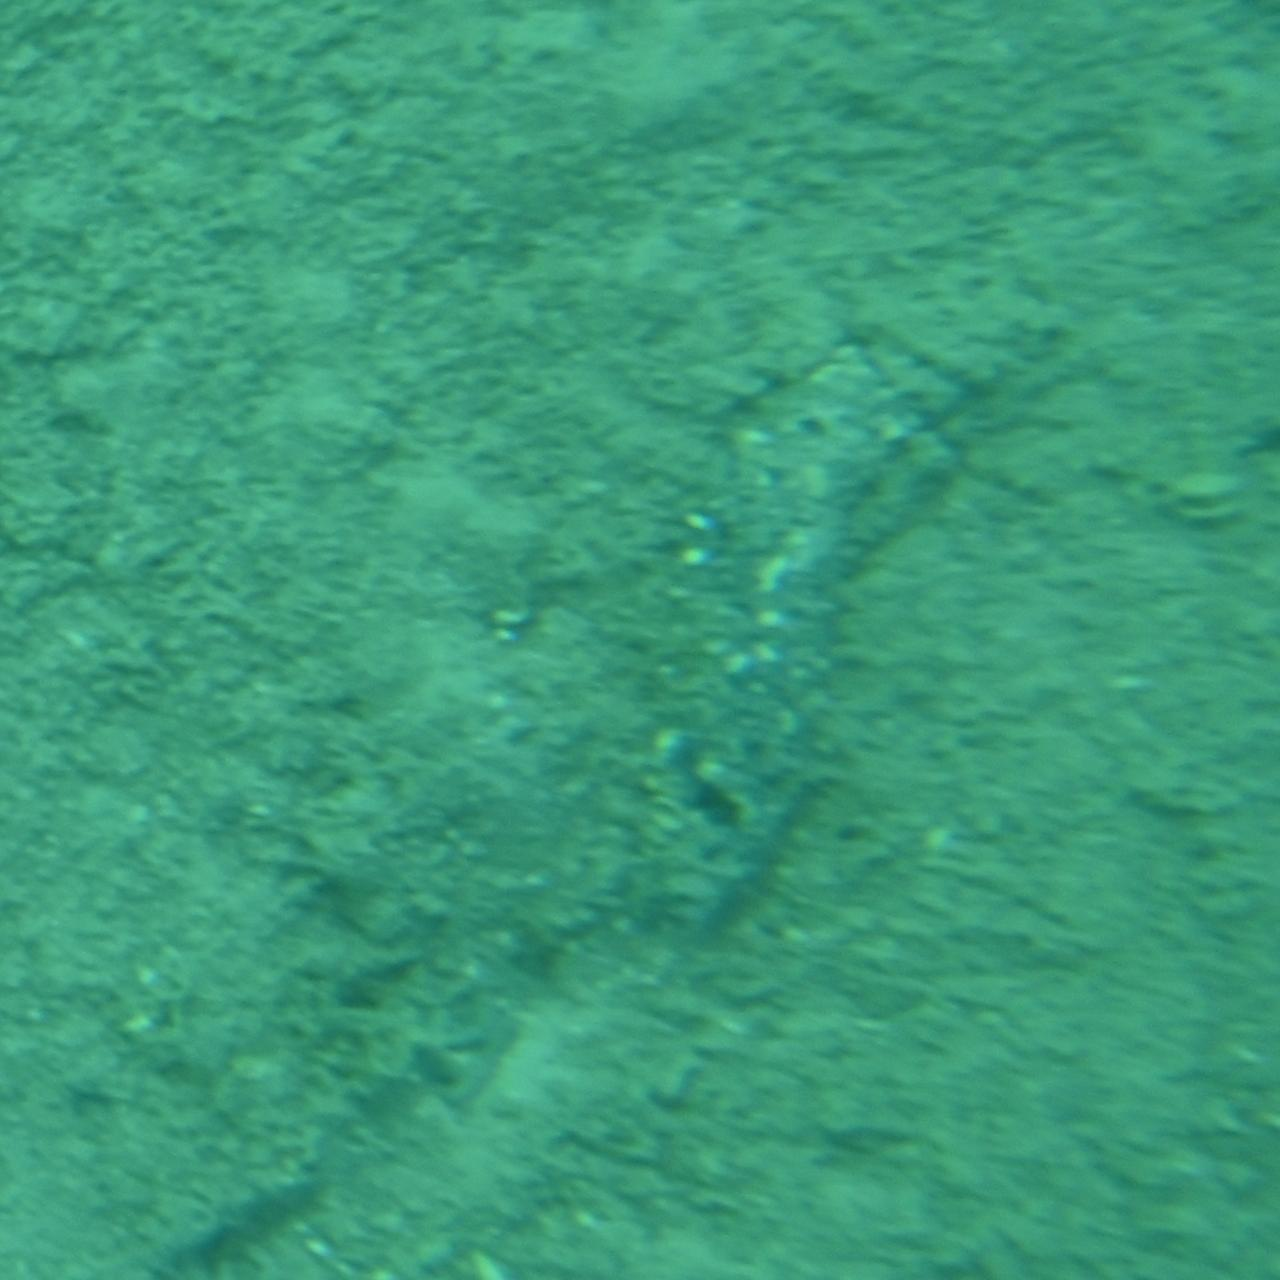Holothuria tubulosa: (622, 307, 1019, 973)
